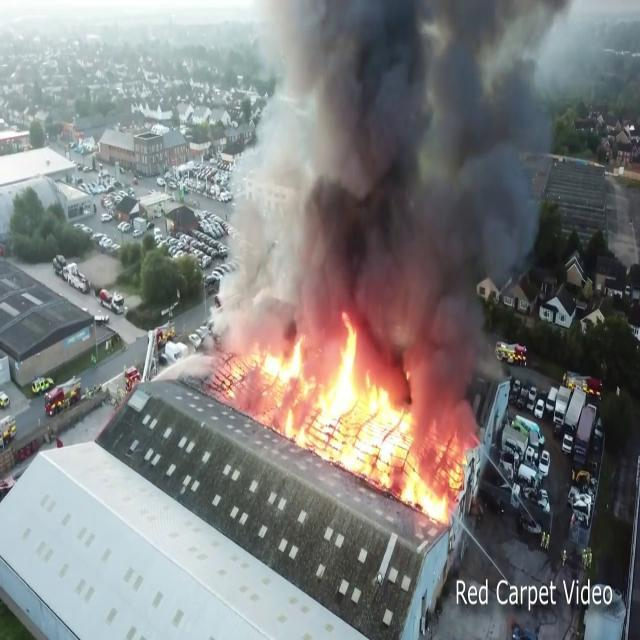Fire: (222, 318, 466, 512)
Smoke: (204, 1, 612, 353)
